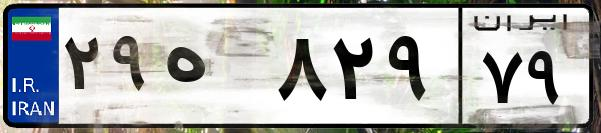2: (330, 28, 385, 110), (57, 26, 110, 100)
7: (475, 38, 525, 113)
8: (270, 28, 330, 110)
9: (385, 28, 445, 110), (525, 38, 570, 115), (110, 28, 158, 98)
ه: (158, 20, 270, 120)
